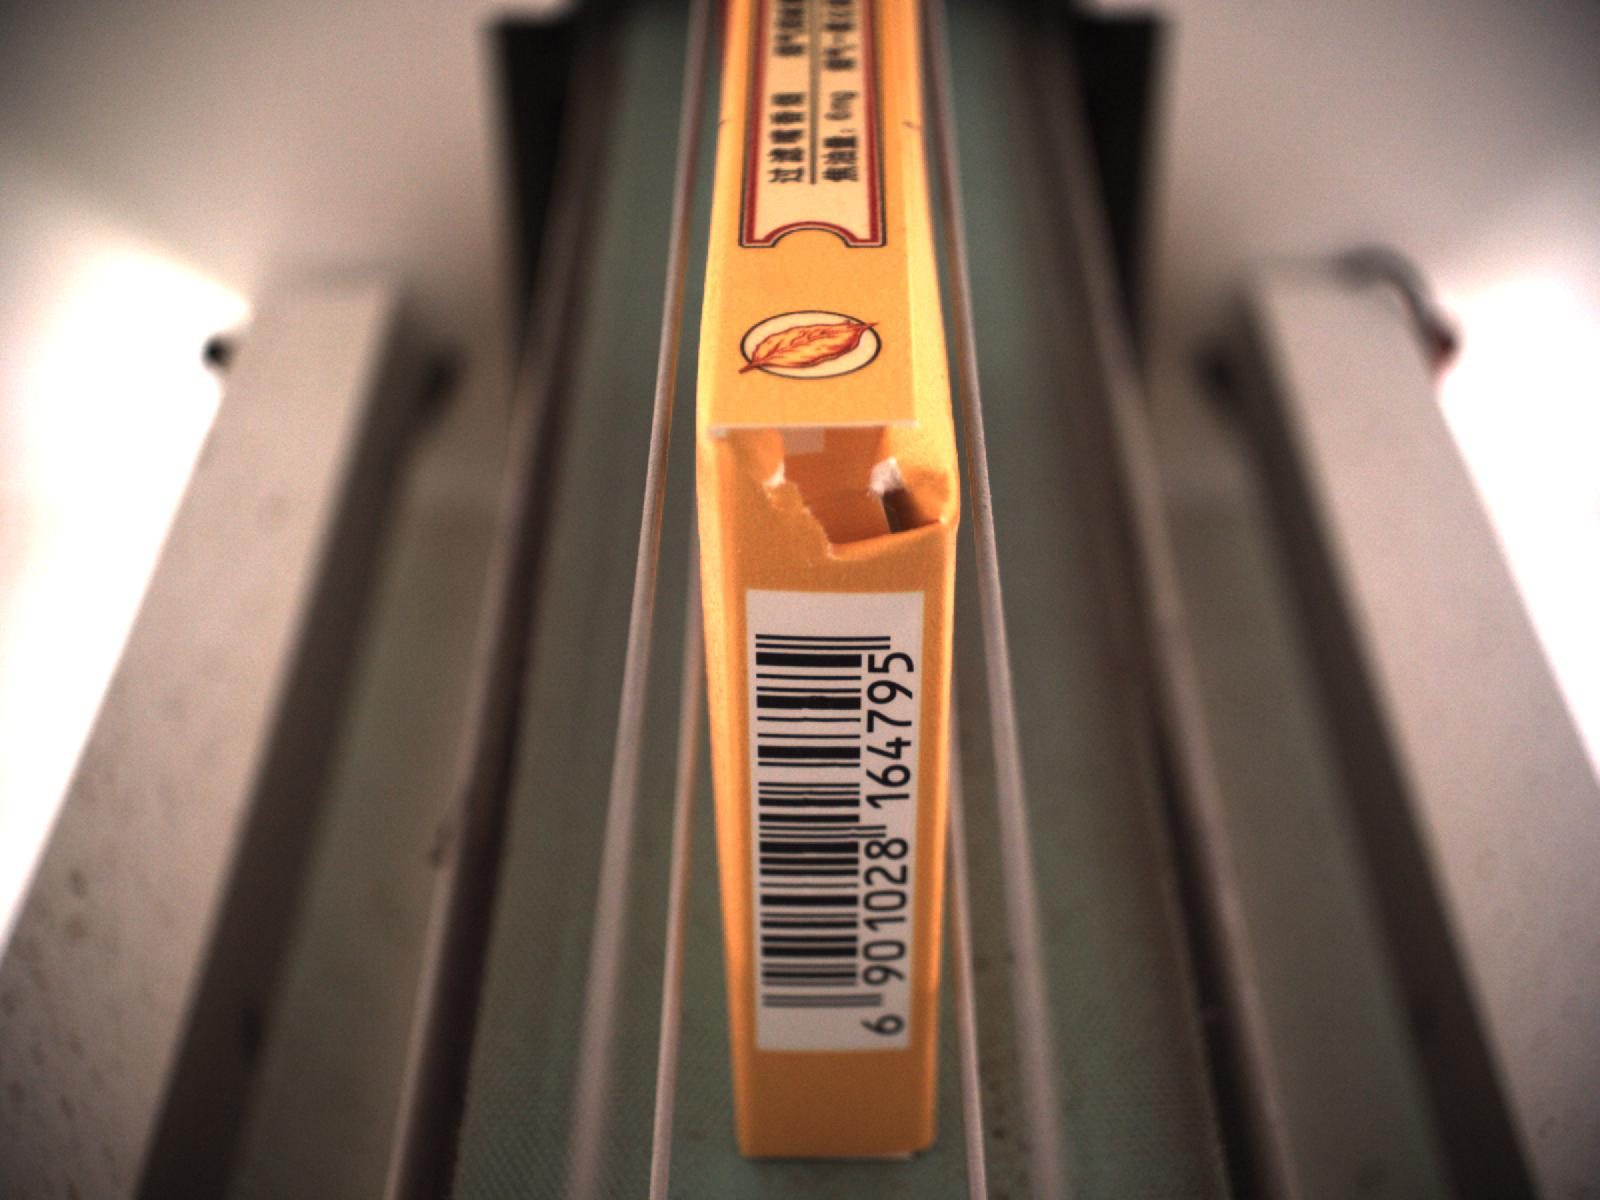cornerBreak: (695, 400, 961, 568)
dirtySpot: (897, 113, 923, 137)
